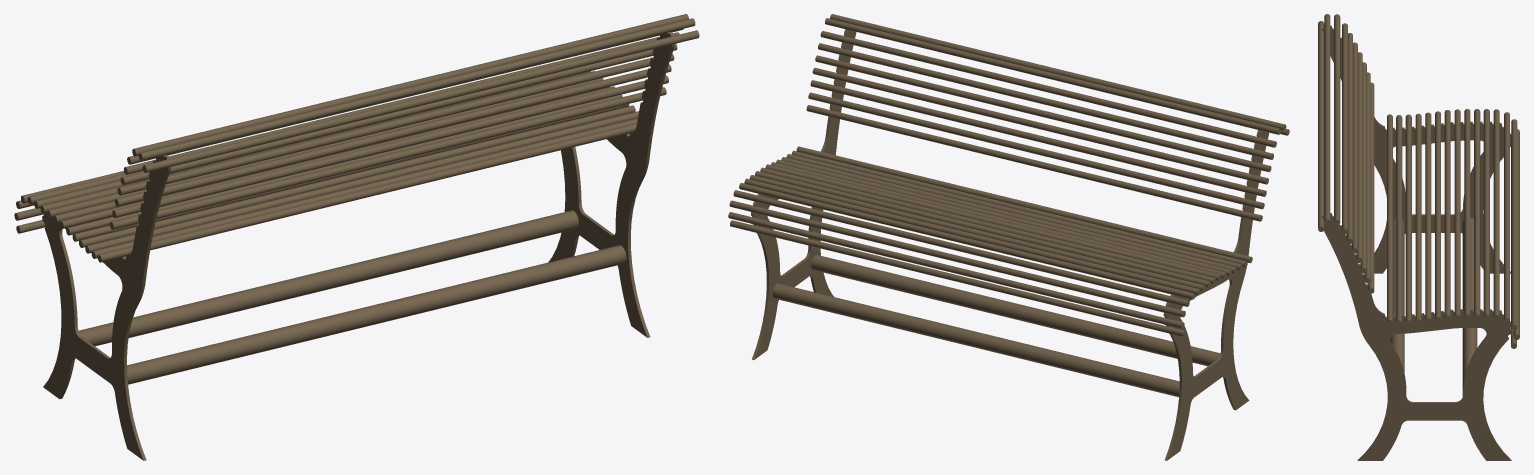
The picture shows the model from 3 angles, left to right: view 1: azimuth 30°, elevation 25°; view 2: azimuth 150°, elevation 25°; view 3: azimuth 270°, elevation 25°; orthographic projection. The views are drawn at different scales.
Parts seen in each view (by area): view 1: mesh18_mesh18-geometry, mesh1_mesh1-geometry, mesh3_mesh3-geometry, mesh13_mesh13-geometry, mesh27_mesh27-geometry, mesh17_mesh17-geometry, mesh16_mesh16-geometry, mesh22_mesh22-geometry, mesh5_mesh5-geometry, mesh14_mesh14-geometry, mesh21_mesh21-geometry, mesh2_mesh2-geometry (+11 smaller); view 2: mesh18_mesh18-geometry, mesh21_mesh21-geometry, mesh9_mesh9-geometry, mesh20_mesh20-geometry, mesh12_mesh12-geometry, mesh17_mesh17-geometry, mesh19_mesh19-geometry, mesh22_mesh22-geometry, mesh2_mesh2-geometry, mesh16_mesh16-geometry, mesh27_mesh27-geometry, mesh4_mesh4-geometry (+14 smaller); view 3: mesh18_mesh18-geometry, mesh20_mesh20-geometry, mesh23_mesh23-geometry, mesh1_mesh1-geometry, mesh5_mesh5-geometry, mesh9_mesh9-geometry, mesh14_mesh14-geometry, mesh15_mesh15-geometry, mesh24_mesh24-geometry, mesh2_mesh2-geometry, mesh26_mesh26-geometry, mesh10_mesh10-geometry (+15 smaller).
Boxes of the visible parts, x1,y1,x2,y2 form: mesh18_mesh18-geometry: (42, 32, 674, 460); mesh1_mesh1-geometry: (138, 18, 695, 160); mesh3_mesh3-geometry: (142, 30, 699, 172); mesh13_mesh13-geometry: (97, 123, 636, 262); mesh27_mesh27-geometry: (110, 87, 666, 229); mesh17_mesh17-geometry: (112, 75, 668, 217); mesh16_mesh16-geometry: (114, 64, 671, 206); mesh22_mesh22-geometry: (117, 53, 674, 195); mesh5_mesh5-geometry: (79, 105, 635, 247); mesh14_mesh14-geometry: (85, 111, 638, 253); mesh21_mesh21-geometry: (120, 43, 677, 184); mesh2_mesh2-geometry: (132, 14, 688, 156); mesh18_mesh18-geometry: (750, 29, 1269, 460); mesh21_mesh21-geometry: (815, 55, 1271, 172); mesh9_mesh9-geometry: (739, 183, 1195, 299); mesh20_mesh20-geometry: (729, 200, 1185, 317); mesh12_mesh12-geometry: (728, 212, 1184, 328); mesh17_mesh17-geometry: (808, 92, 1264, 209); mesh19_mesh19-geometry: (733, 190, 1189, 306); mesh22_mesh22-geometry: (812, 67, 1268, 184); mesh2_mesh2-geometry: (825, 18, 1280, 134); mesh16_mesh16-geometry: (810, 80, 1266, 196); mesh27_mesh27-geometry: (806, 105, 1262, 221); mesh4_mesh4-geometry: (820, 31, 1276, 147); mesh18_mesh18-geometry: (1322, 25, 1512, 460); mesh20_mesh20-geometry: (1511, 119, 1517, 330); mesh23_mesh23-geometry: (1425, 112, 1431, 323); mesh1_mesh1-geometry: (1324, 14, 1330, 225); mesh5_mesh5-geometry: (1415, 113, 1421, 324); mesh9_mesh9-geometry: (1493, 109, 1499, 320); mesh14_mesh14-geometry: (1405, 114, 1411, 325); mesh15_mesh15-geometry: (1464, 109, 1470, 319); mesh24_mesh24-geometry: (1454, 109, 1460, 320); mesh2_mesh2-geometry: (1334, 14, 1340, 225); mesh26_mesh26-geometry: (1396, 115, 1402, 326); mesh10_mesh10-geometry: (1444, 110, 1450, 320).
Size of the model in its own units: 0.817 by 0.4627 by 0.3385.
